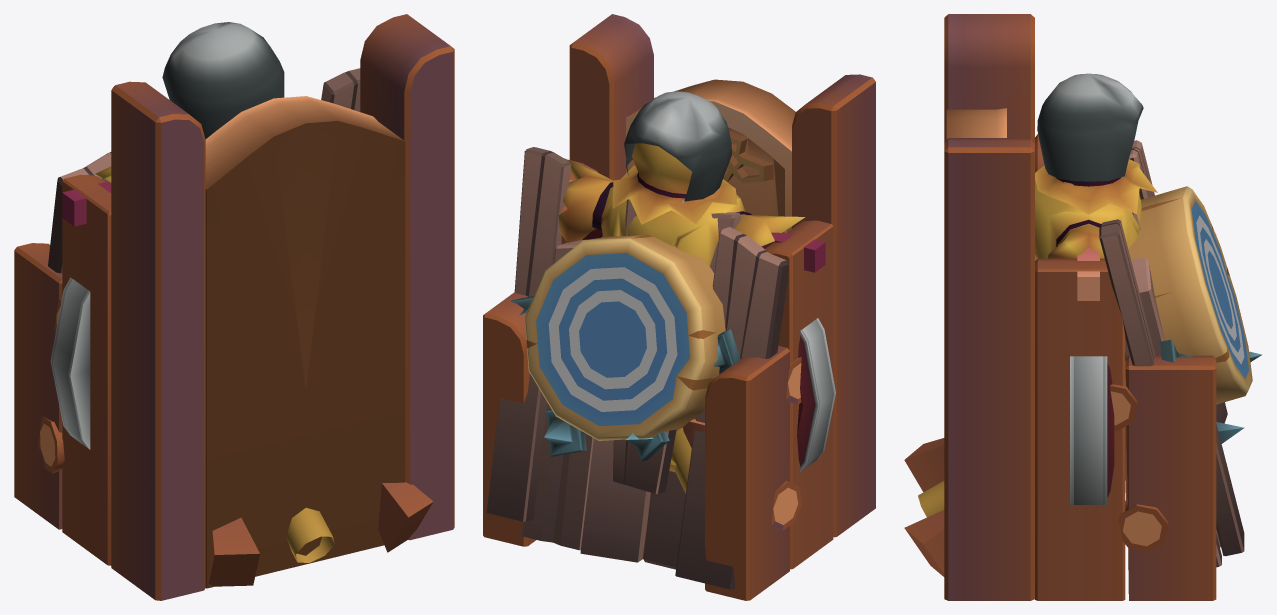
The model's file is End_t3_a1.fbx.
3 views of the same model, side by side, from view 1: azimuth 30°, elevation 25°; view 2: azimuth 150°, elevation 25°; view 3: azimuth 270°, elevation 25° (orthographic). The views are drawn at different scales.
Visible parts, largest first — view 1: Chair, Scarecrow, Fence, Shield, Target; view 2: Chair, Fence, Target, Scarecrow, Shield; view 3: Chair, Scarecrow, Fence, Target, Shield.
Boxes of the visible parts, x1=… form: Chair: x1=14, y1=14, x2=454, y2=600; Scarecrow: x1=62, y1=22, x2=284, y2=226; Fence: x1=38, y1=68, x2=433, y2=586; Shield: x1=50, y1=277, x2=90, y2=449; Target: x1=286, y1=508, x2=334, y2=562; Chair: x1=483, y1=14, x2=875, y2=600; Fence: x1=486, y1=147, x2=802, y2=589; Target: x1=524, y1=235, x2=725, y2=493; Scarecrow: x1=559, y1=91, x2=825, y2=272; Shield: x1=582, y1=227, x2=835, y2=471; Chair: x1=944, y1=14, x2=1216, y2=600; Scarecrow: x1=1035, y1=73, x2=1157, y2=300; Fence: x1=904, y1=140, x2=1261, y2=576; Target: x1=918, y1=186, x2=1252, y2=517; Shield: x1=1070, y1=356, x2=1114, y2=504.
Size of the model in its own units: 4.44 by 6.03 by 4.33.
